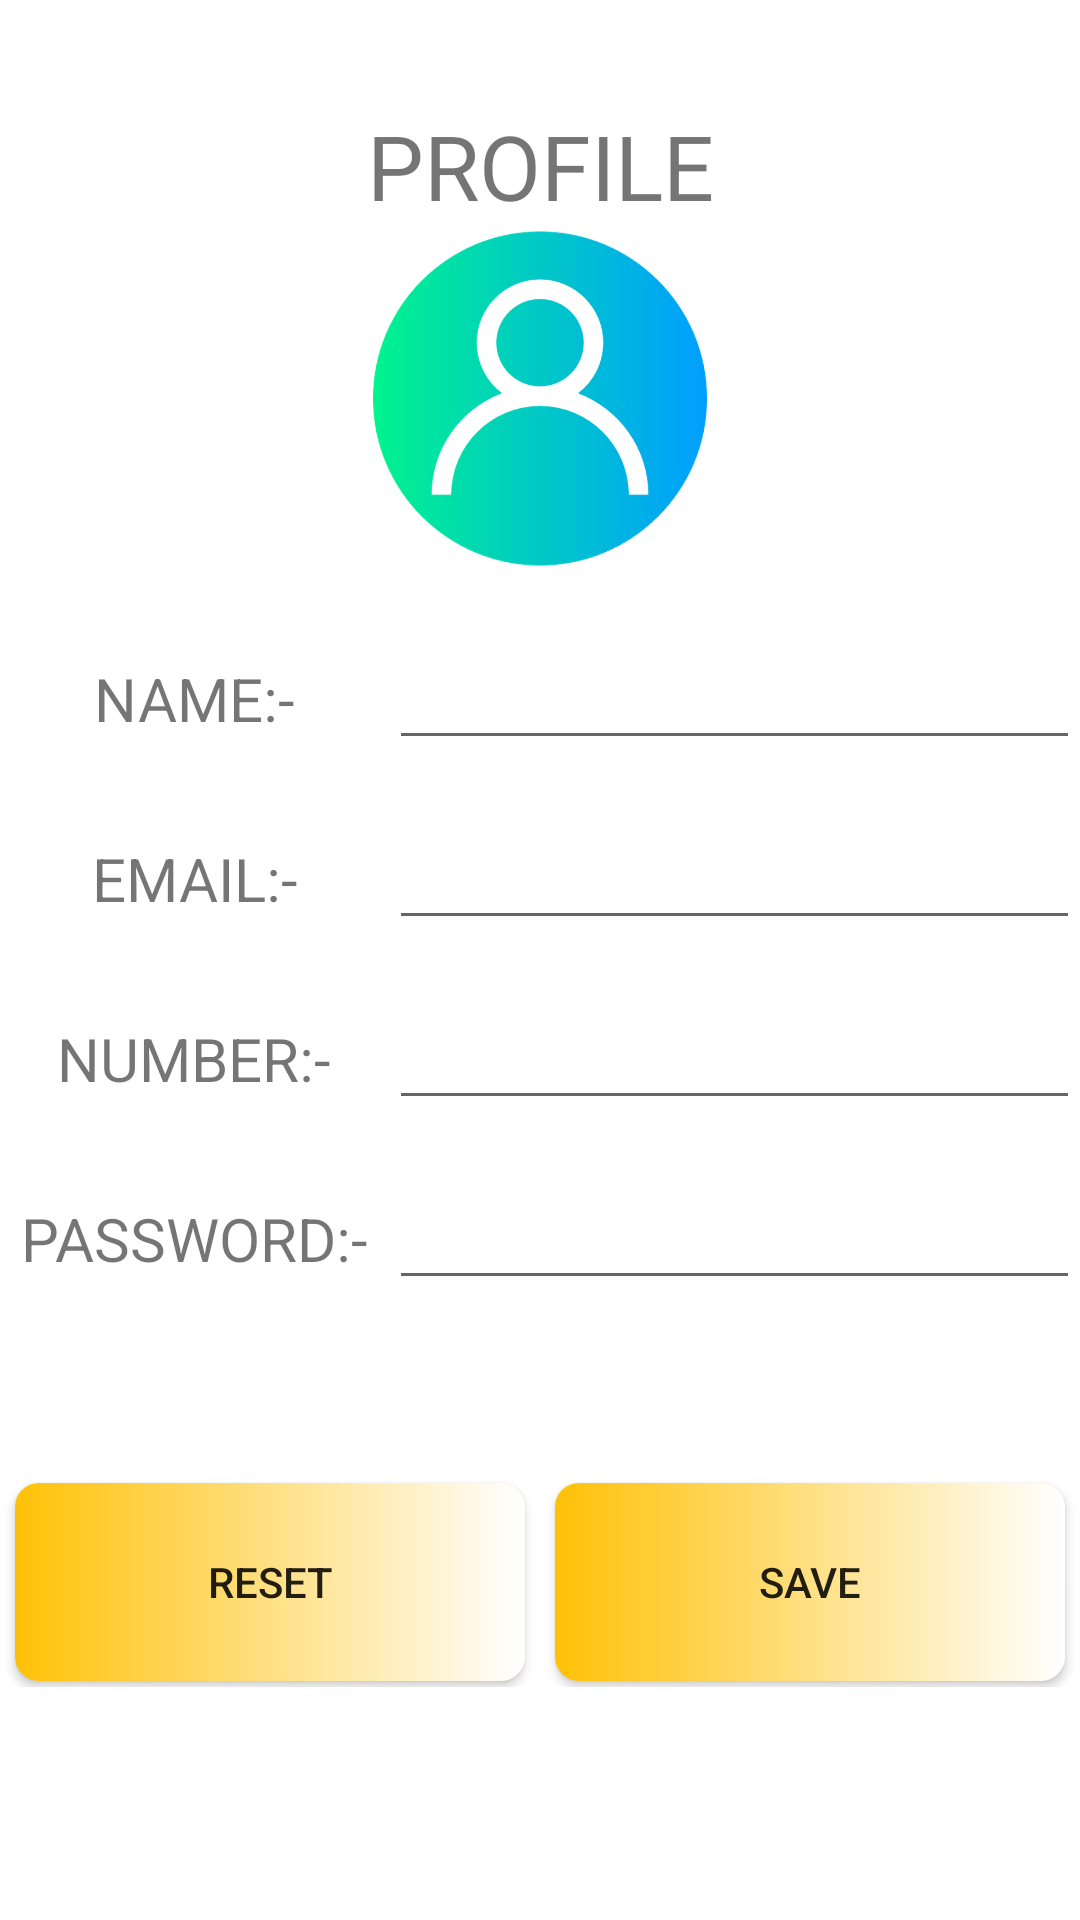

Named icons in this screenshot (1080 x 1920) and their bounding boxes, (x1, y1, x2, y2):
user: (373, 231, 707, 566)
